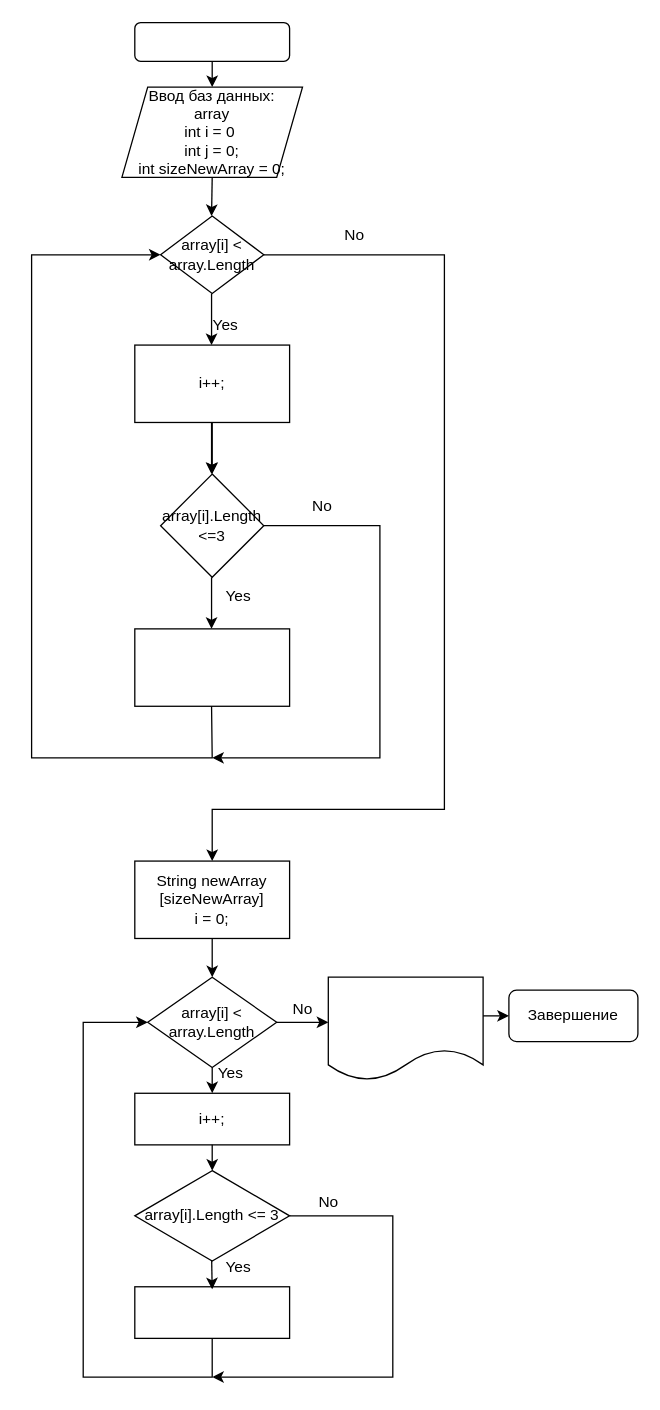
This 660x1410 diagram has some shape labels left out. The box of each missing label's shape, as (x1, y1, x2, y2) in pixels:
newArray[j] = array[i]: (134, 1285, 290, 1338)
sizeNewArray++;: (134, 628, 290, 706)
Вывод array Вывод newArray: (327, 976, 483, 1080)
Старт: (134, 21, 290, 61)
